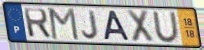A: (103, 10, 131, 42)
J: (81, 9, 100, 40)
M: (47, 7, 81, 42)
R: (22, 7, 53, 40)
U: (151, 11, 182, 44)
X: (125, 8, 156, 44)
